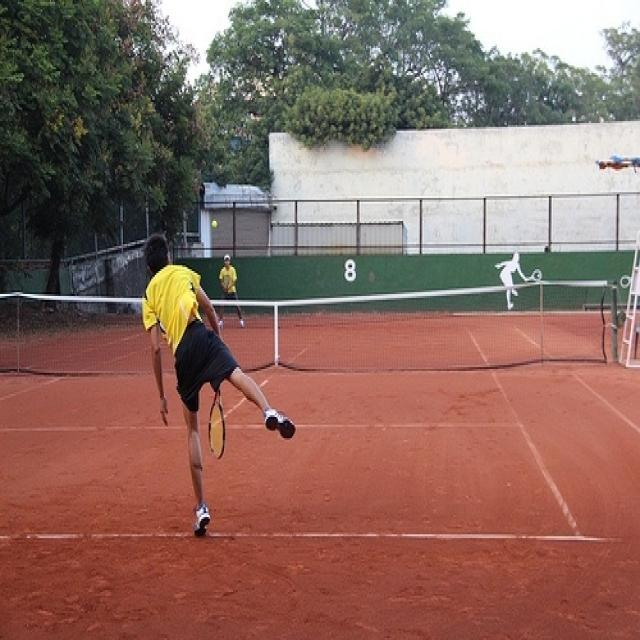ball: (211, 219, 218, 227)
